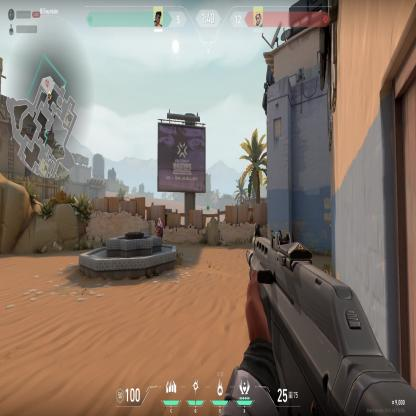enemy: (156, 217, 162, 236)
